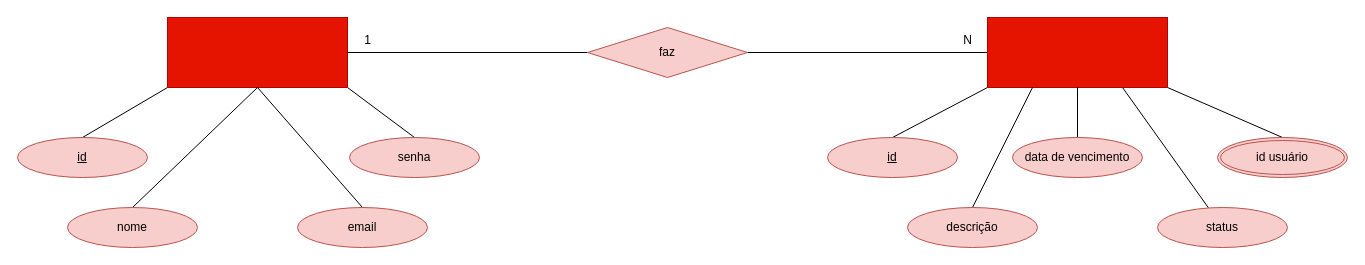
Image size: 1365x265. Some labels were removed from this diagram. The box of each missing label's shape, as (x1, y1, x2, y2) in pixels:
Tarefas: (986, 16, 1168, 88)
Usuários: (166, 16, 348, 88)
